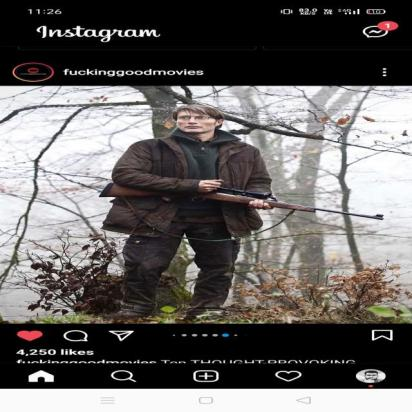Gun: (98, 182, 385, 221)
